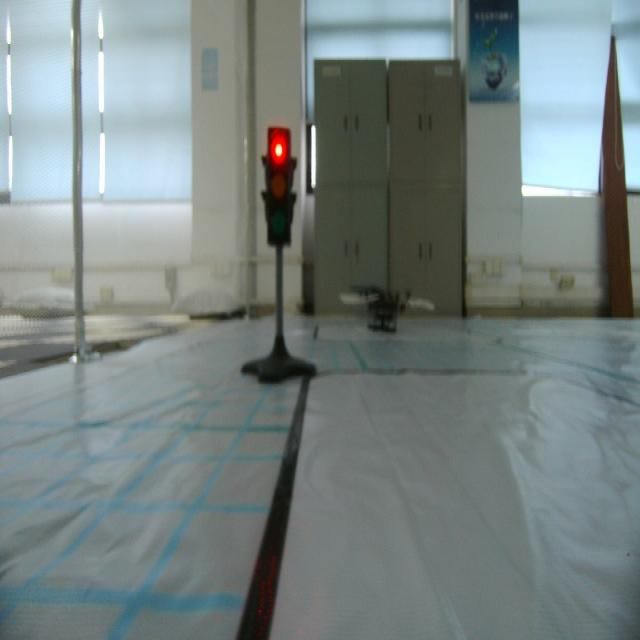red: (260, 115, 302, 255)
